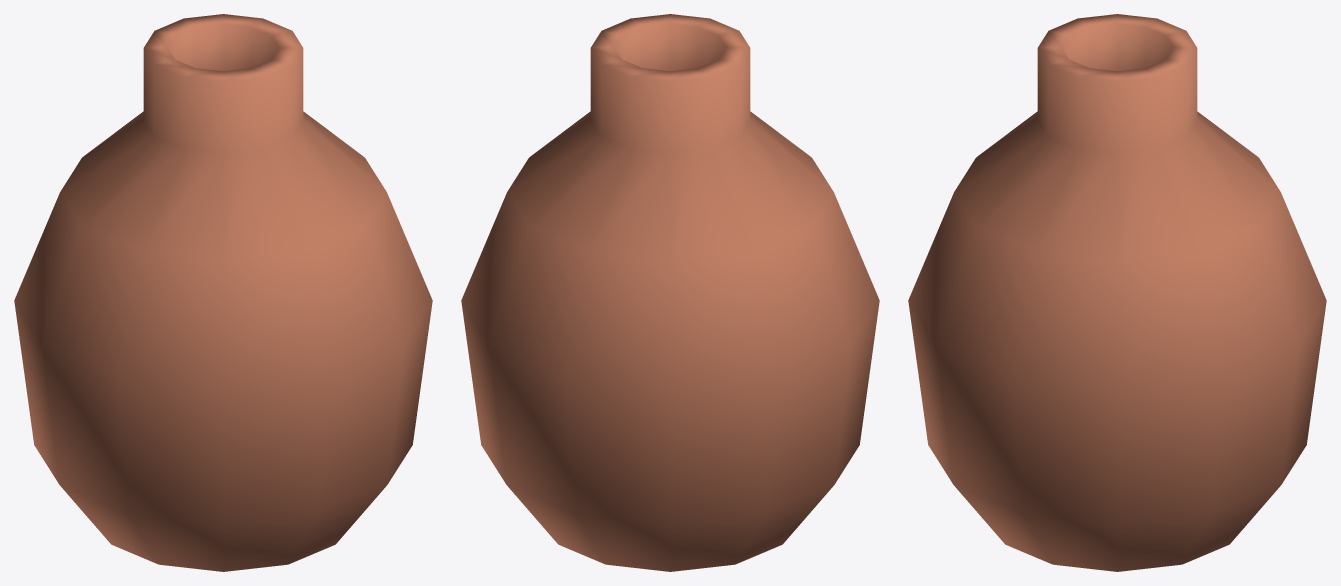
Rendered from kit_vase_v1.glb.
3 renders of one model, left to right at view 1: azimuth 30°, elevation 25°; view 2: azimuth 150°, elevation 25°; view 3: azimuth 270°, elevation 25°, orthographic.
Visible parts, largest first — view 1: body; view 2: body; view 3: body.
Boxes of the visible parts, x1,y1,x2,y2 form: body: (14,14,432,571); body: (461,14,879,571); body: (908,14,1326,571).
Size of the model in its own units: 0.21 by 0.26 by 0.21.
